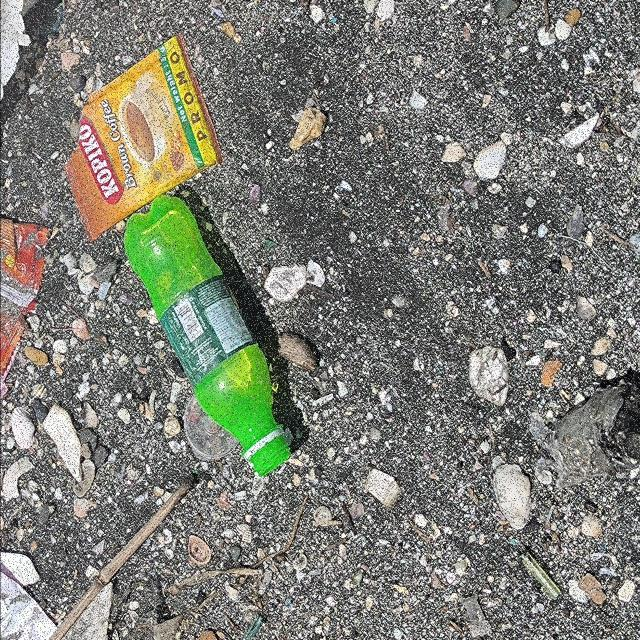plastic_waste: (124, 195, 295, 477), (63, 35, 224, 244), (1, 217, 53, 385)
